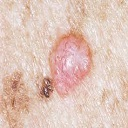Carcinoma: (41, 34, 91, 101), (1, 76, 28, 122)
